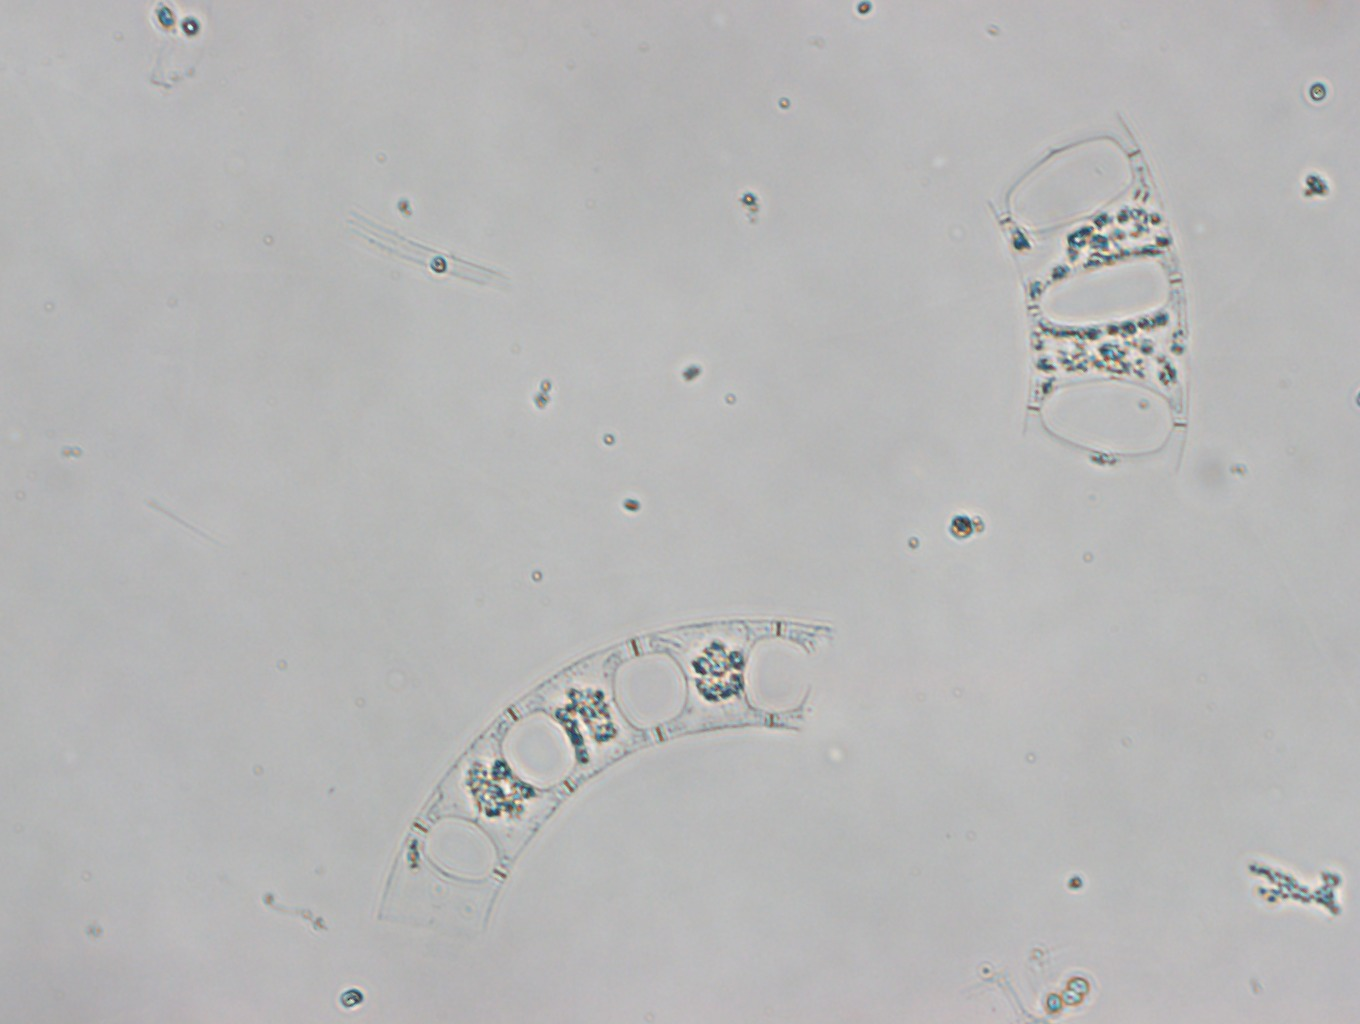eucampia: (373, 616, 834, 927), (987, 109, 1193, 477)
